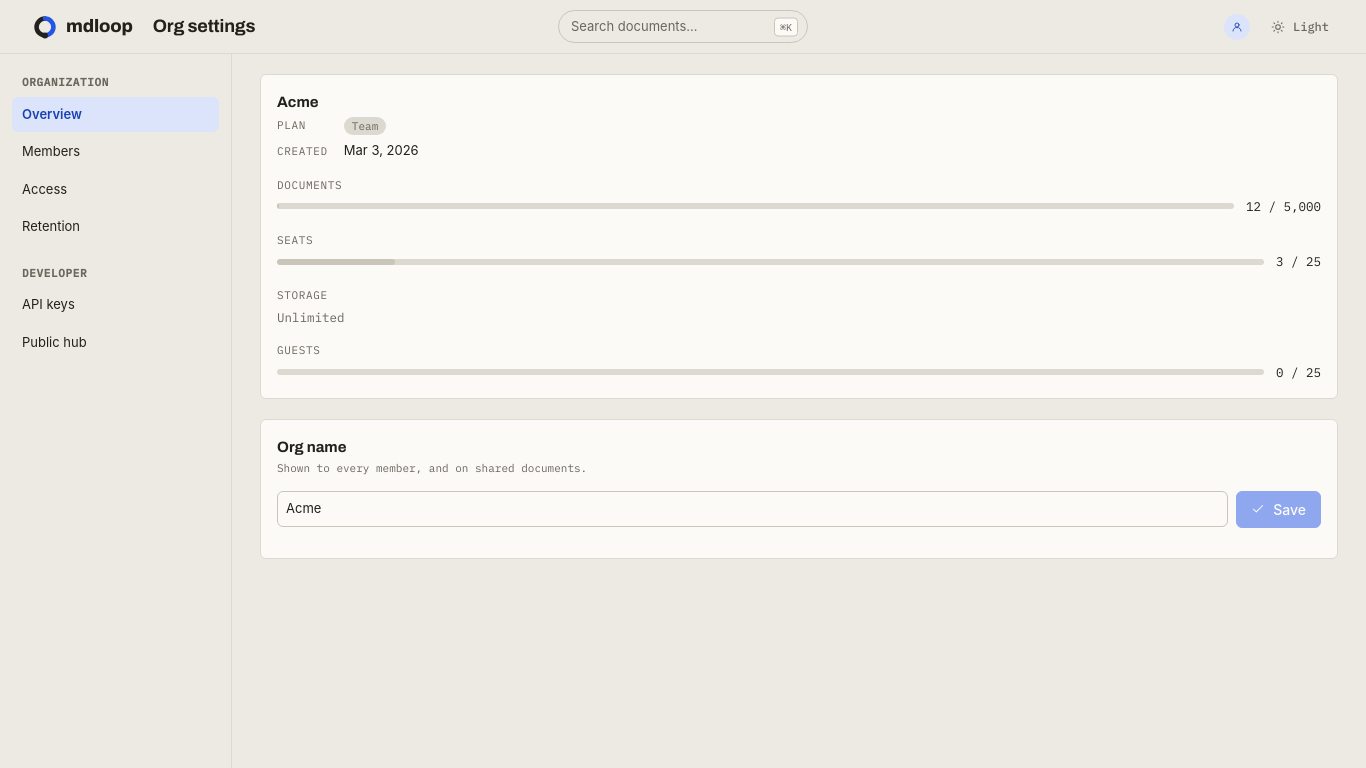
Test: OrgSettings › loads and lists pending invites
Click the button "Members": coordinates (116, 152) [12,134,219,170]
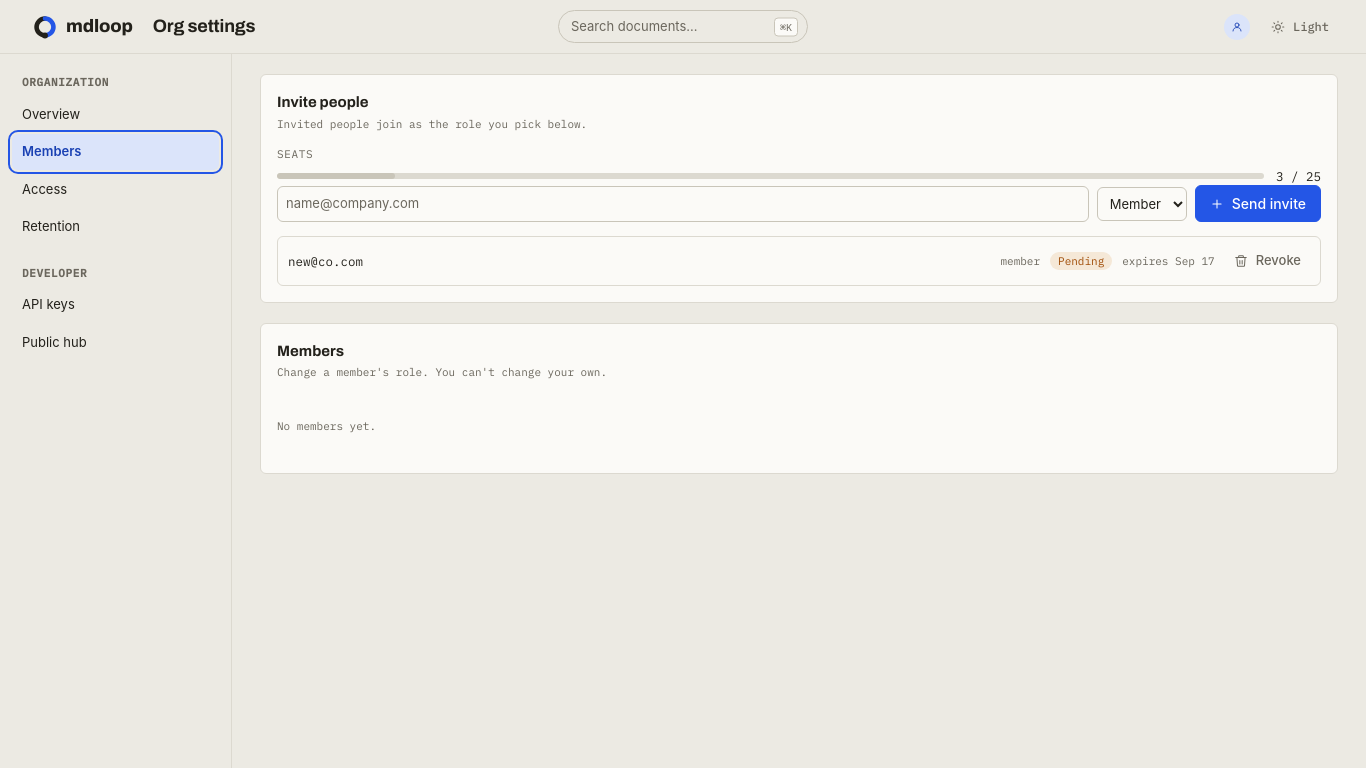
Expected: the text "new@co.com" is shown, [288,253,363,269]
Expected: the text "Pending" is shown, [1050,252,1112,270]
